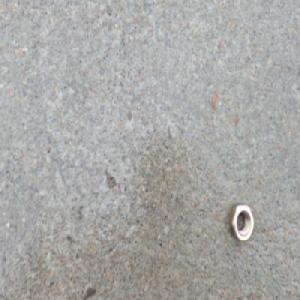Nut: (228, 201, 254, 243)
